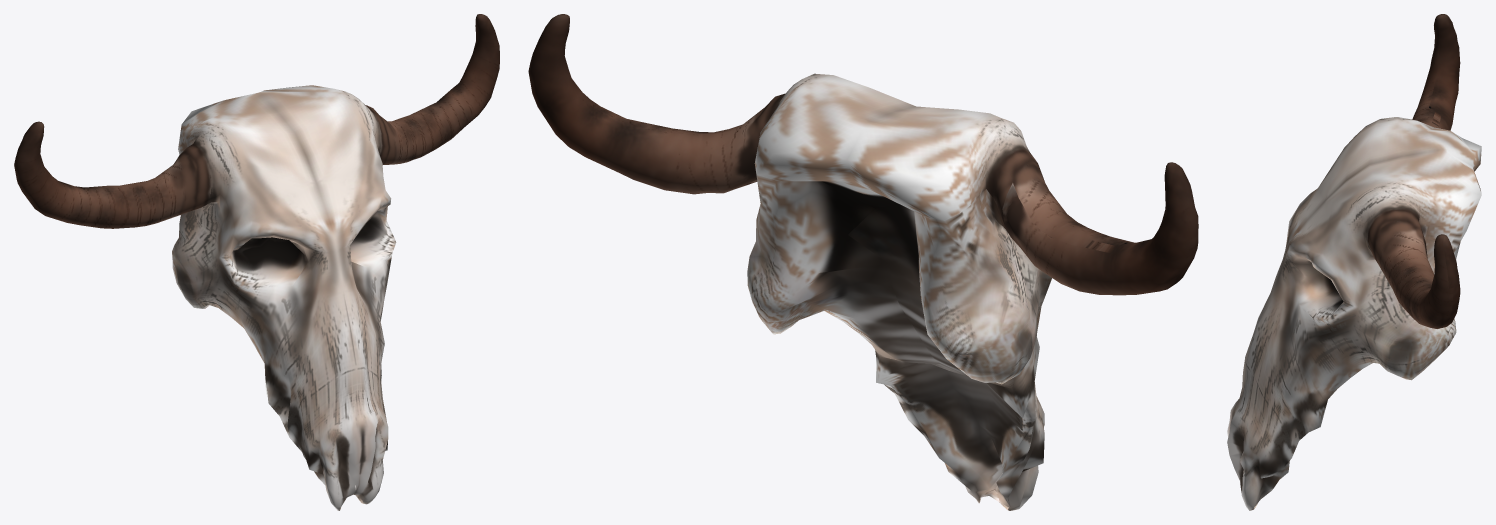
The model's file is BullSkull.fbx.
3 renders of one model, left to right at view 1: azimuth 30°, elevation 25°; view 2: azimuth 150°, elevation 25°; view 3: azimuth 270°, elevation 25°, orthographic. The views are drawn at different scales.
Visible parts, largest first — view 1: Skull; view 2: Skull; view 3: Skull.
Boxes of the visible parts, <box> form: Skull: <box>14,14,499,510</box>; Skull: <box>528,14,1198,510</box>; Skull: <box>1227,14,1481,510</box>.
Bounding box in the file's own units: 20.07 × 14.75 × 8.98.
